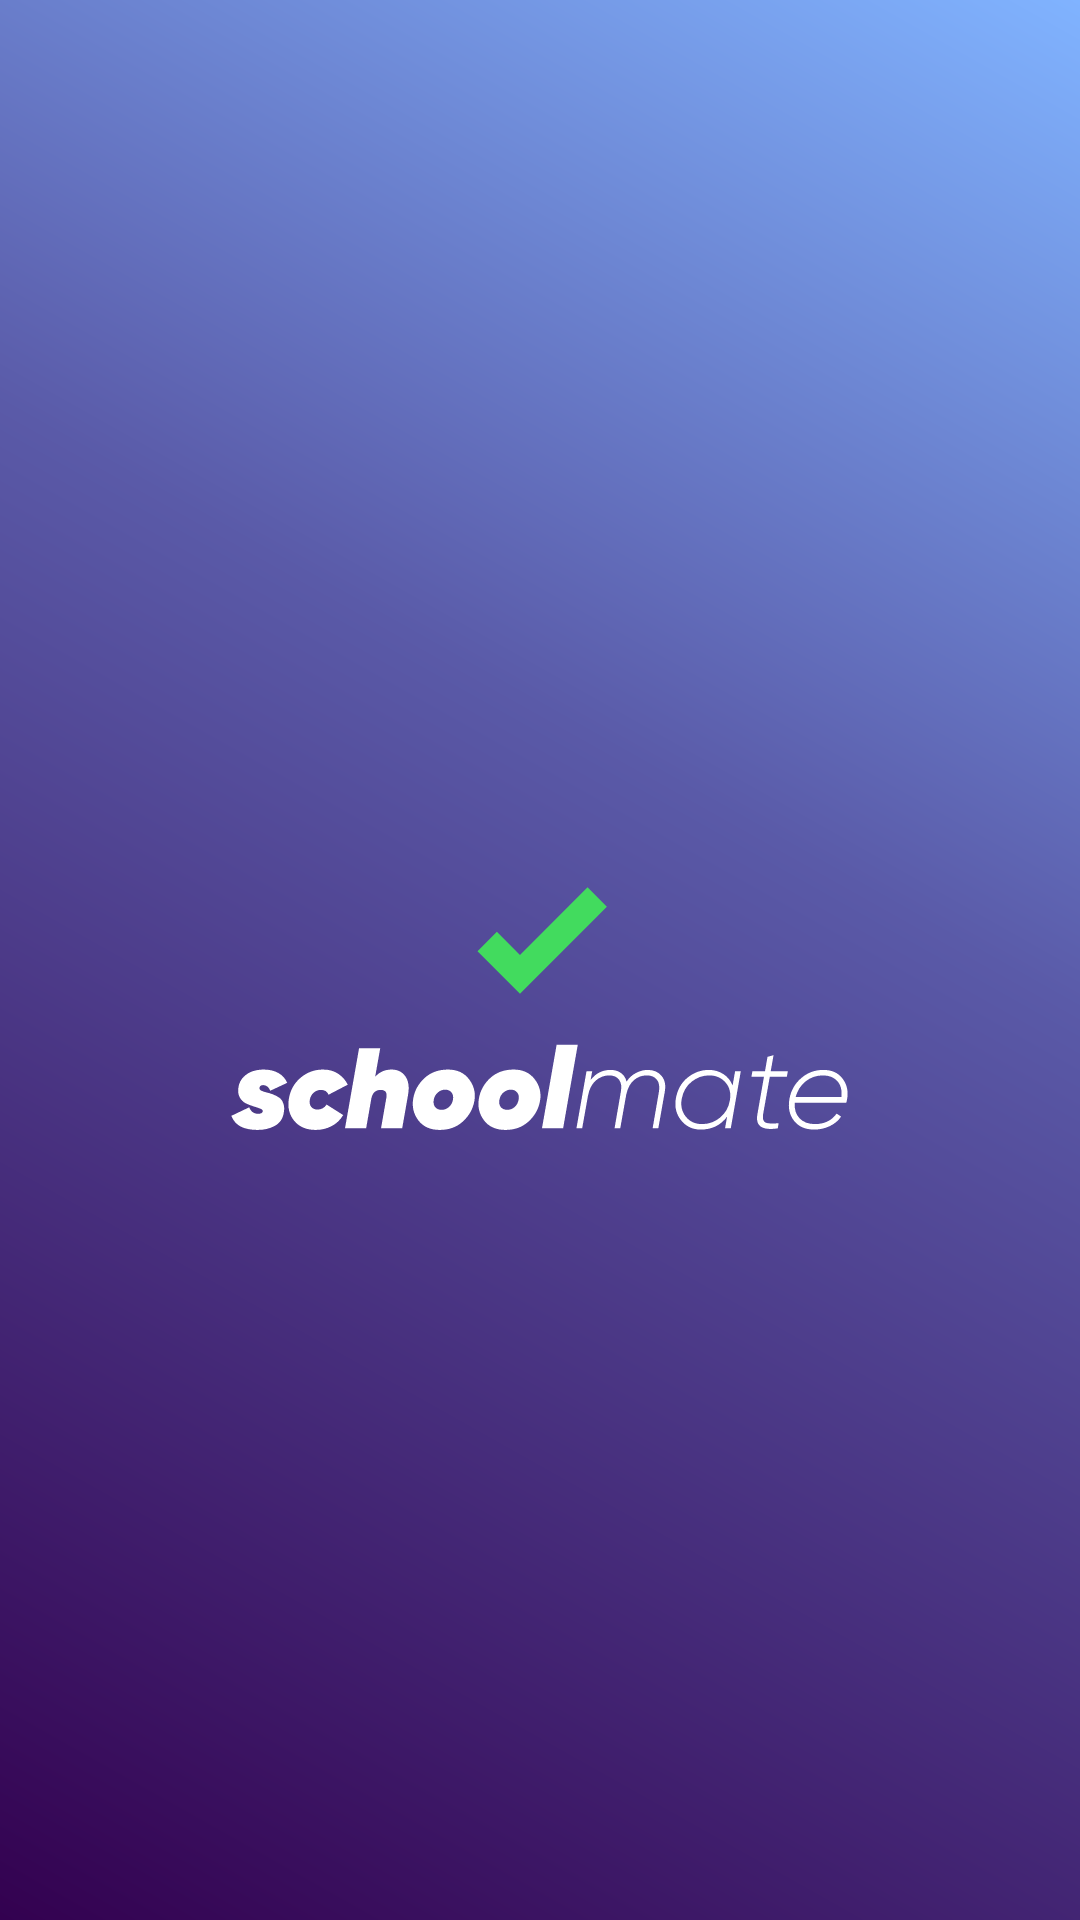

Icons on this 1080w x 1920h Android screen, each with the point to tap as point (x, y):
check: point (542, 940)
